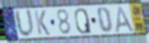0: (96, 6, 114, 34)
8: (56, 8, 72, 36)
A: (115, 5, 136, 34)
K: (33, 10, 51, 37)
Q: (74, 7, 93, 35)
U: (13, 8, 36, 39)
